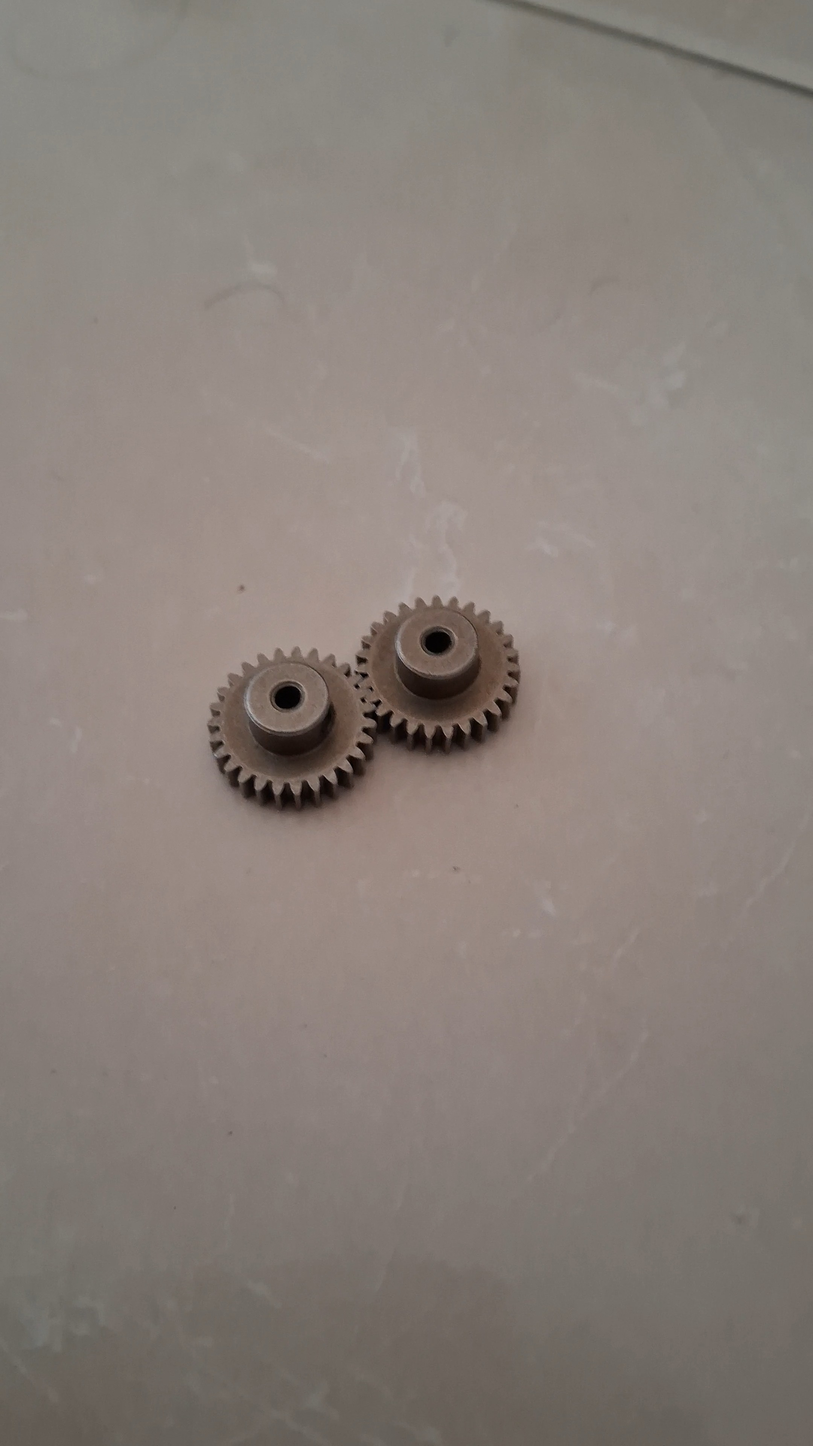spur gear: (231, 676, 397, 834), (379, 628, 542, 781)
